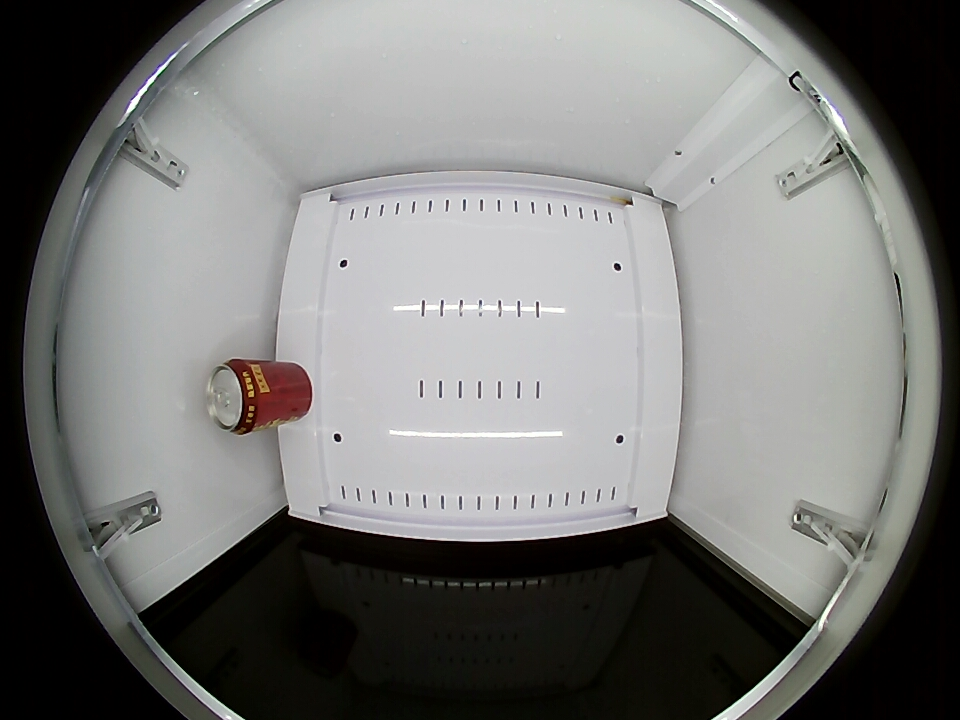wanglaoji-c: (206, 358, 266, 435)
